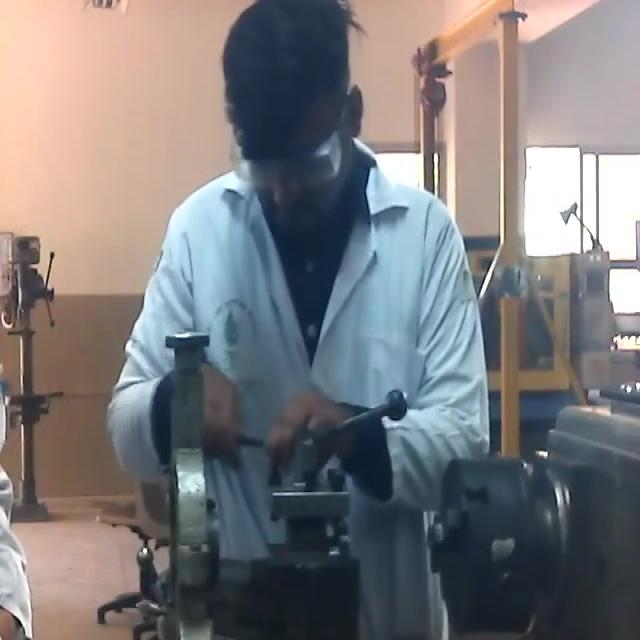googles: (234, 136, 344, 196)
labcoat: (111, 136, 490, 640)
